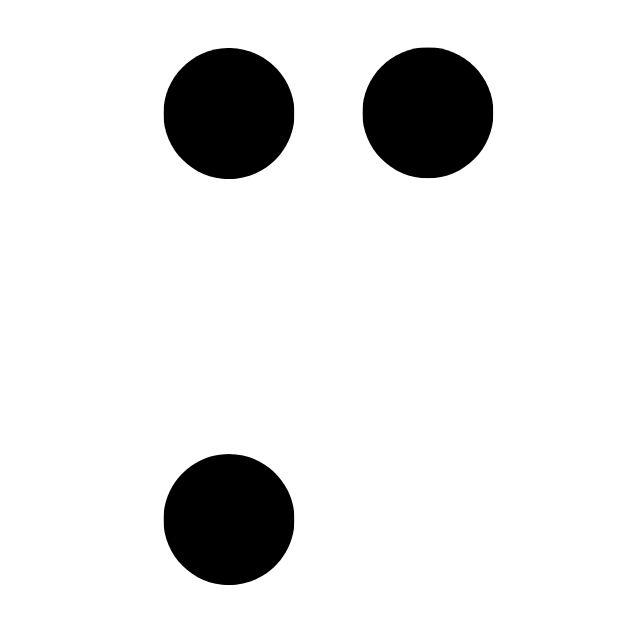m: (162, 47, 495, 585)
